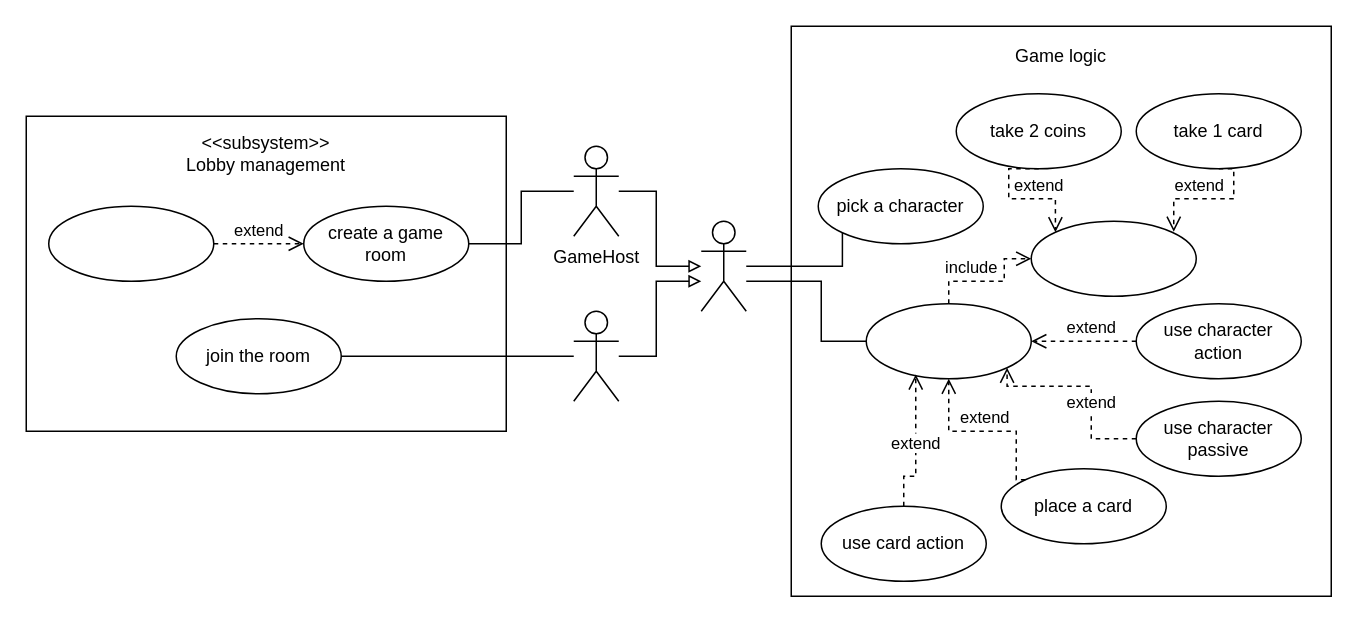
Image size: 1358x623. Some labels were removed from this diagram. The centre of each missing label's shape, as x and y in pixels:
"play your turn" belongs at (x=948, y=340).
"Player" belongs at (x=595, y=355).
"start the game" belongs at (x=130, y=243).
"take resources" belongs at (x=1113, y=258).
"User" belongs at (x=723, y=265).
